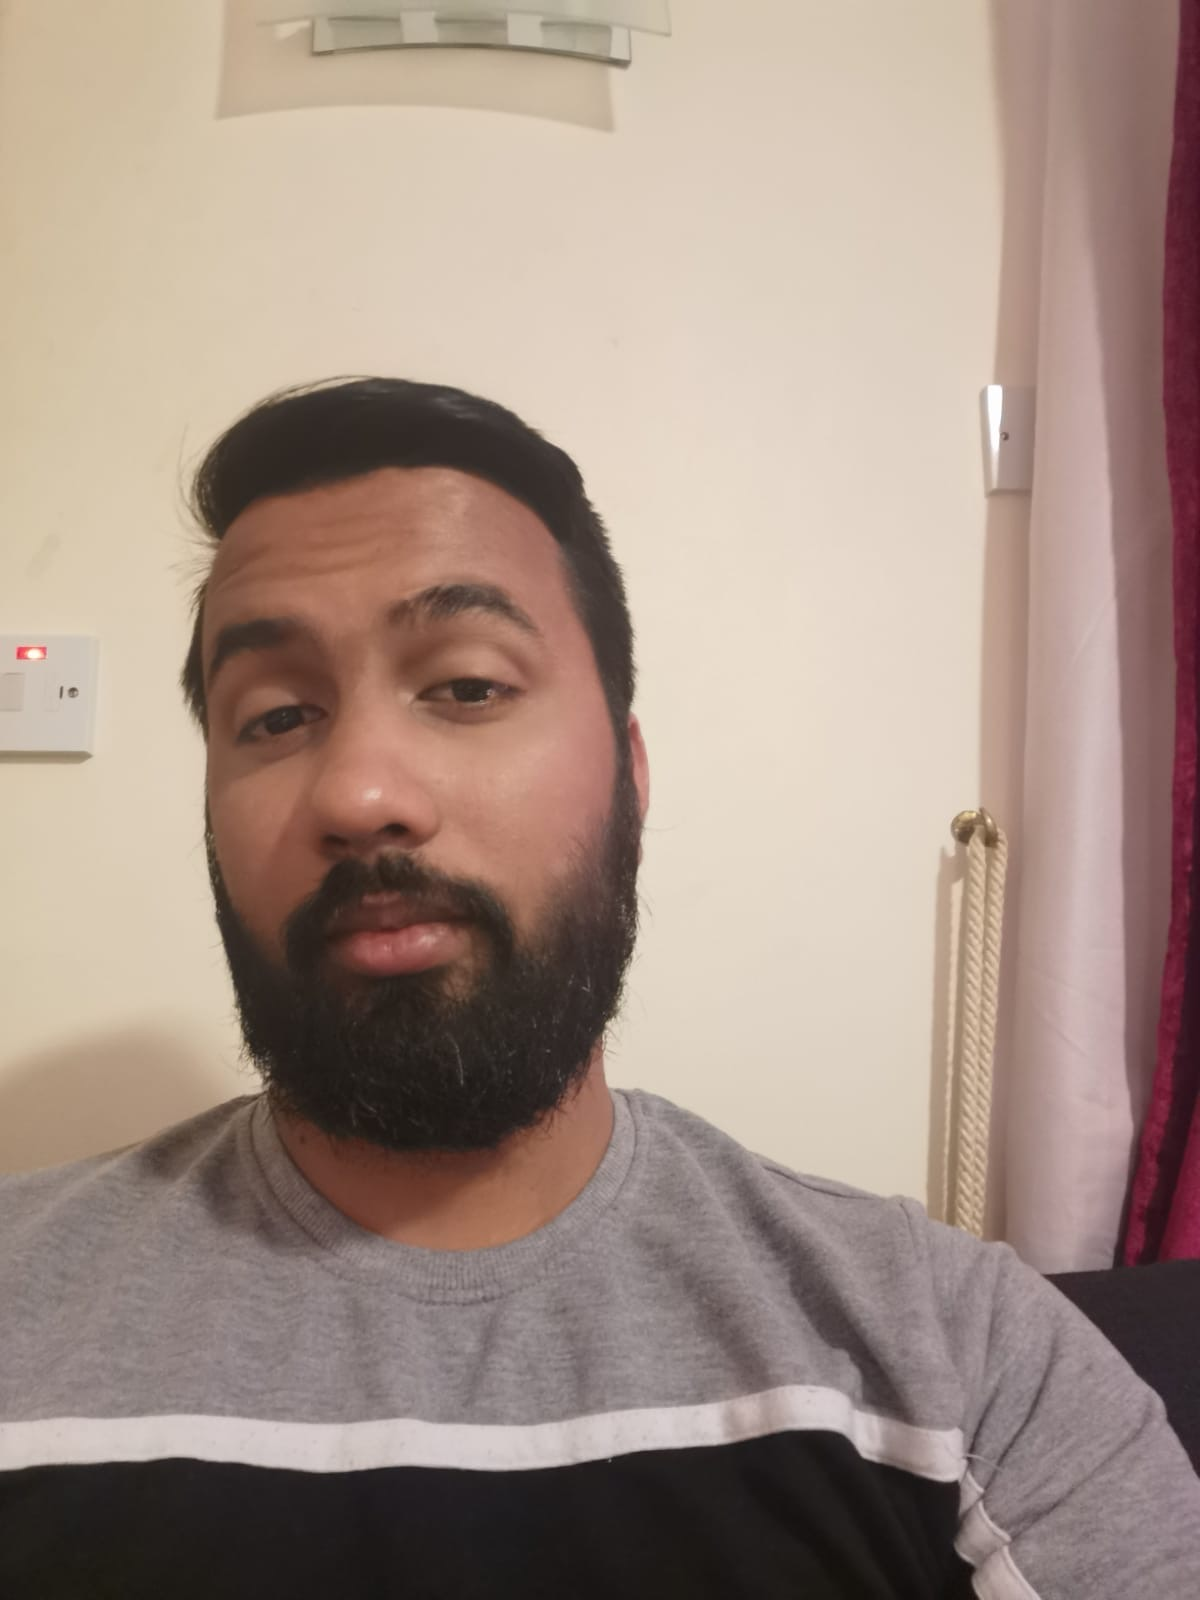Not Sleeping: (211, 651, 555, 757)
